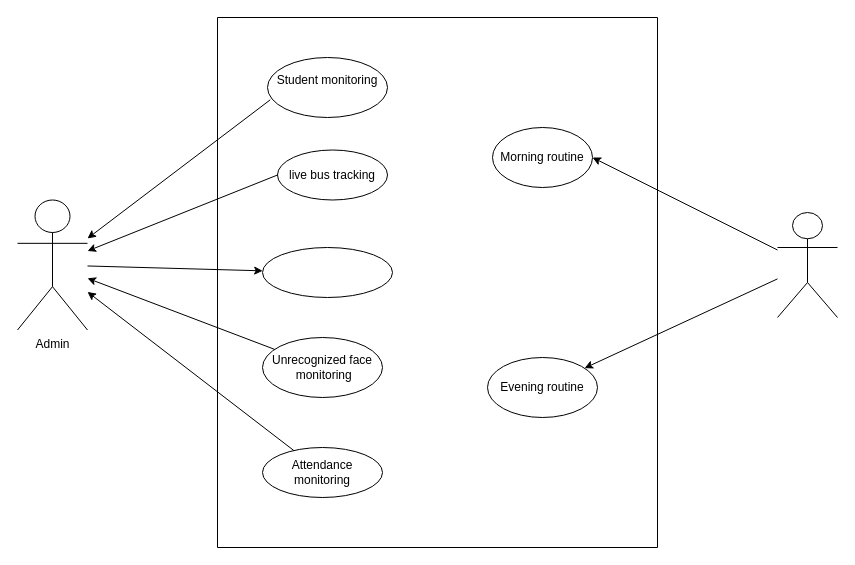
Image size: 855x565. Some labels were removed from this diagram. Here are the shapes that lost their labels. From the top down, the centre of each, then its label:
At (x=327, y=272): "New student data entry".
At (x=807, y=265): "Driver".
